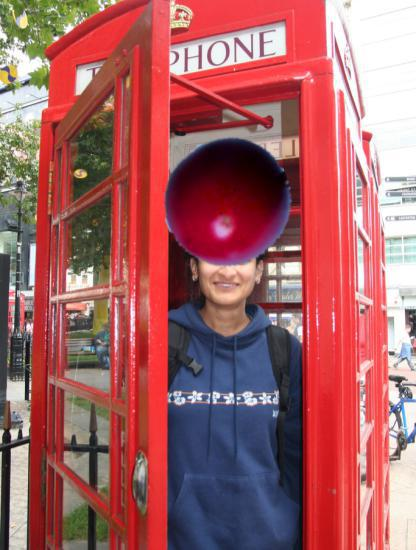Tamarillo: (163, 138, 293, 268)
